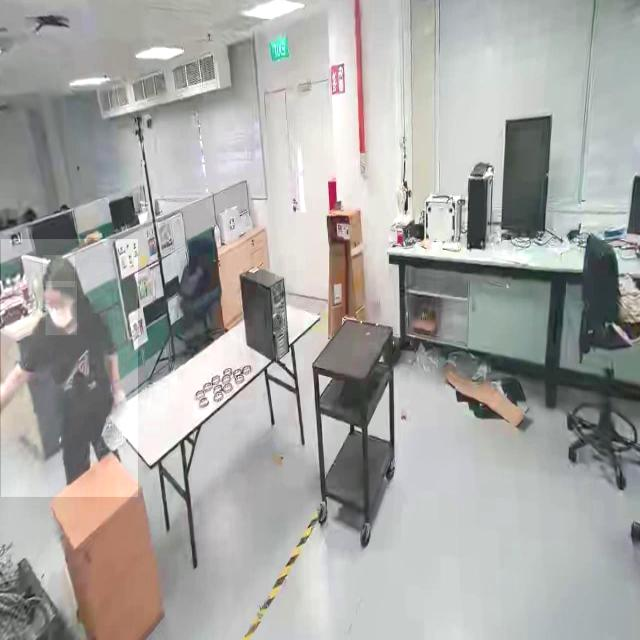face_mask: (45, 281, 77, 335)
head_nohelmet: (43, 255, 75, 288)
person: (0, 239, 138, 498)
